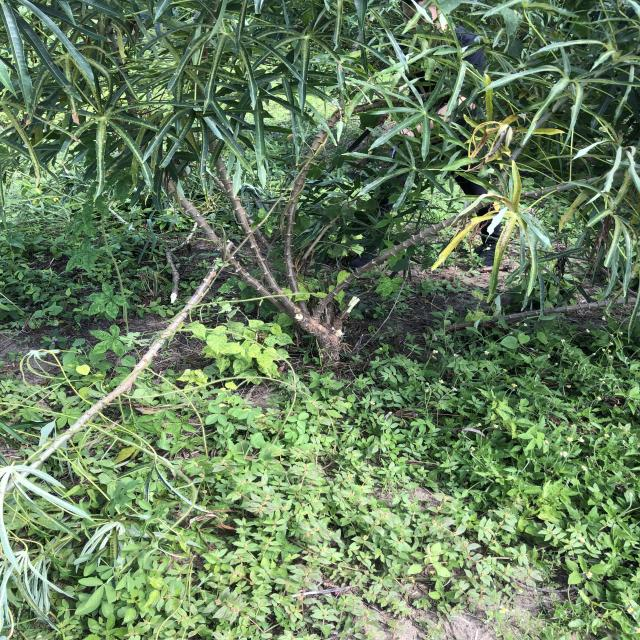Maleza: (167, 456, 496, 621), (16, 353, 223, 609), (469, 402, 640, 640), (345, 351, 512, 510), (200, 322, 312, 408), (79, 274, 171, 360)
Mosca: (125, 123, 139, 140), (183, 108, 196, 125), (100, 135, 113, 143)
